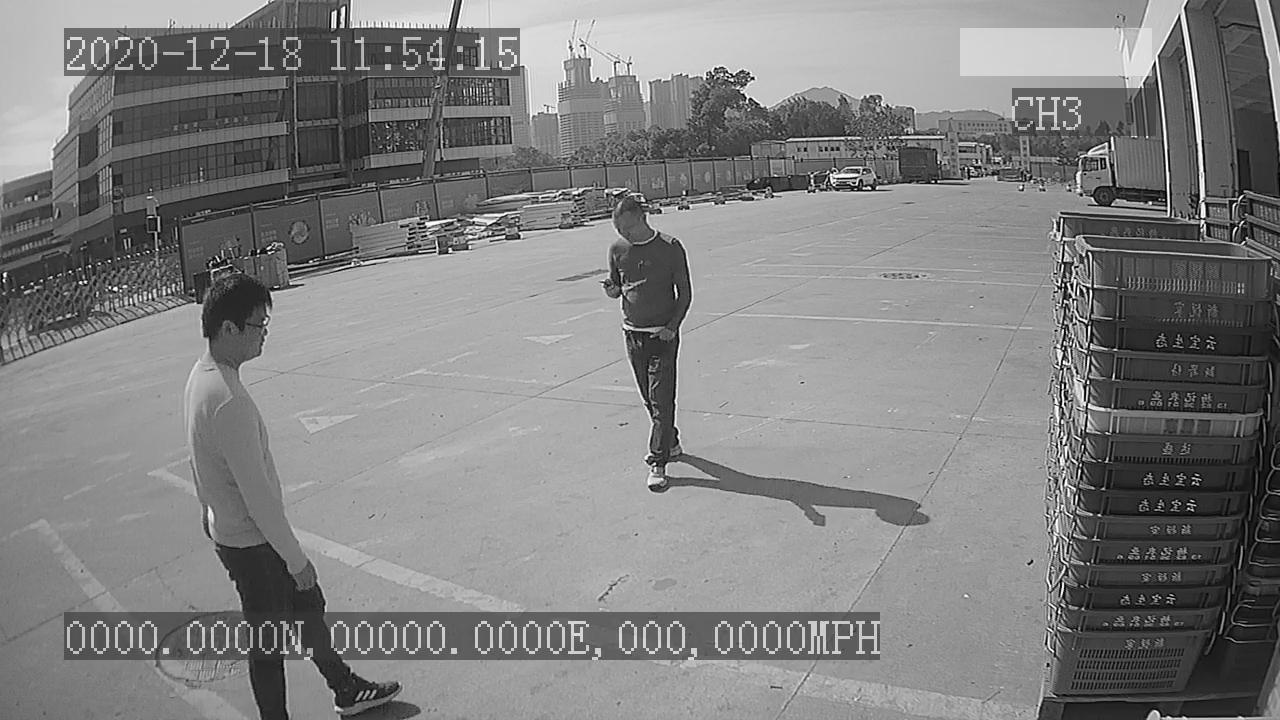person: (588, 188, 702, 486)
